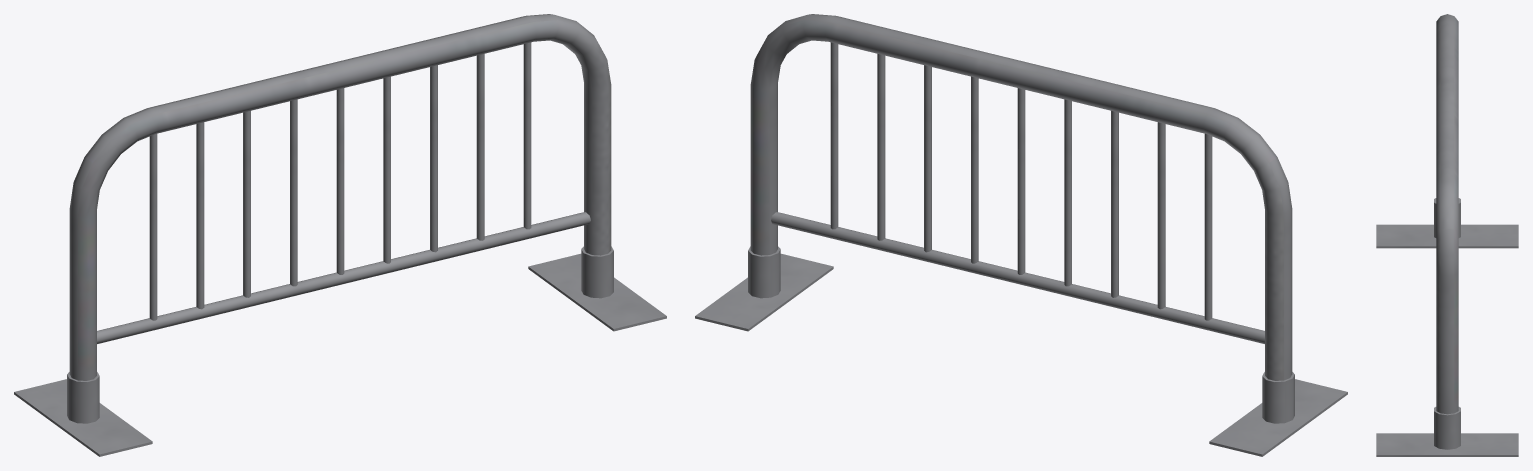
File: barriere_metallique.glb
3 renders of one model, left to right at view 1: azimuth 30°, elevation 25°; view 2: azimuth 150°, elevation 25°; view 3: azimuth 270°, elevation 25°, orthographic. The views are drawn at different scales.
Parts seen in each view (by area): view 1: Metal_Barrier; view 2: Metal_Barrier; view 3: Metal_Barrier.
Boxes of the visible parts, x1,y1,x2,y2 form: Metal_Barrier: [14, 14, 666, 456]; Metal_Barrier: [695, 14, 1347, 456]; Metal_Barrier: [1376, 14, 1518, 456].
Size of the model in its own units: 1.46 by 0.7206 by 0.3802.
Materials: 1 (1 with a texture image).
